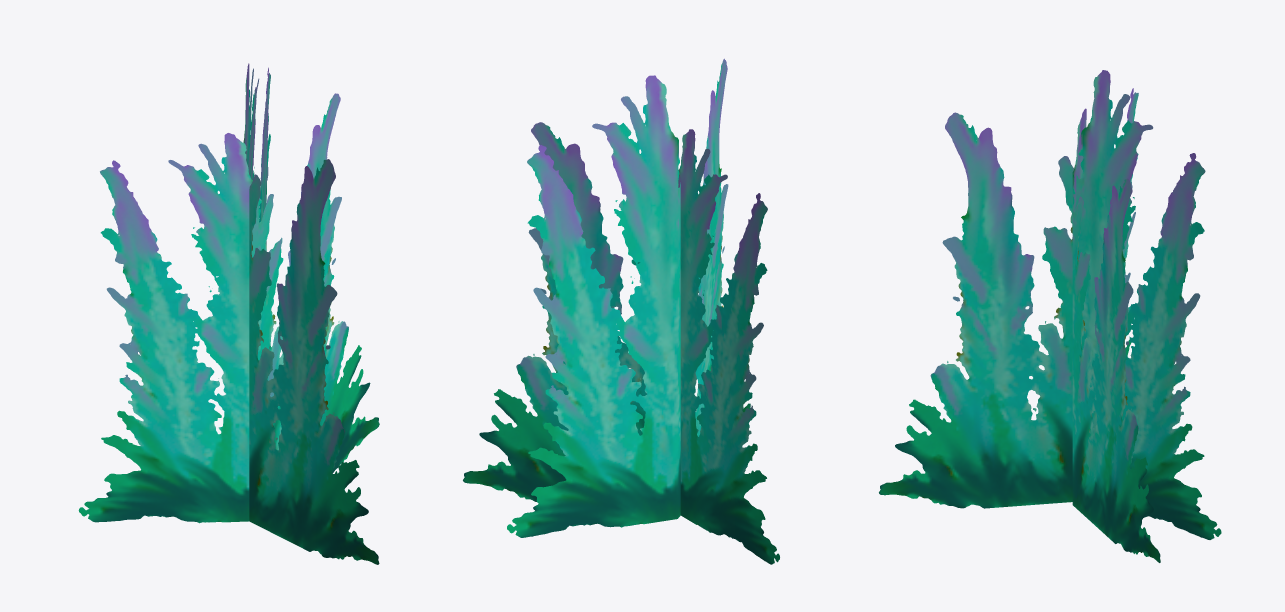
File: grass3.fbx
3 renders of one model, left to right at view 1: azimuth 30°, elevation 25°; view 2: azimuth 150°, elevation 25°; view 3: azimuth 270°, elevation 25°, orthographic. The views are drawn at different scales.
Visible parts, largest first — view 1: Plane.003; view 2: Plane.003; view 3: Plane.003.
Boxes of the visible parts, left/top/right/bottom form: Plane.003: left=78, top=63, right=379, bottom=564; Plane.003: left=463, top=58, right=779, bottom=564; Plane.003: left=879, top=70, right=1221, bottom=562.
Bounding box in the file's own units: 255 × 294 × 246.
